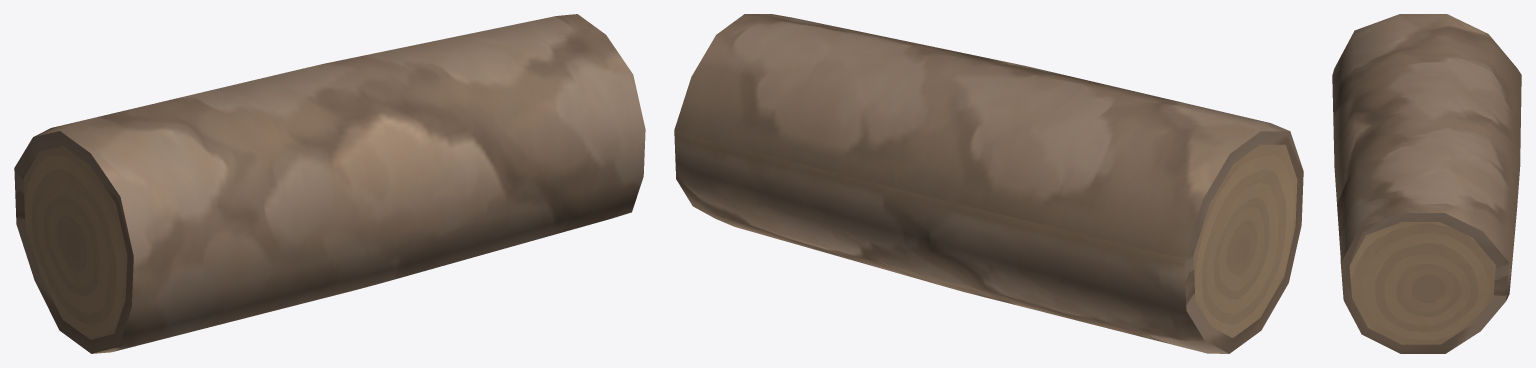
The model's file is WoodenLogDrop.fbx.
3 renders of one model, left to right at view 1: azimuth 30°, elevation 25°; view 2: azimuth 150°, elevation 25°; view 3: azimuth 270°, elevation 25°, orthographic. The views are drawn at different scales.
Visible parts, largest first — view 1: WoodenLogDrop; view 2: WoodenLogDrop; view 3: WoodenLogDrop.
Boxes of the visible parts, x1,y1,x2,y2 form: WoodenLogDrop: [14, 14, 645, 353]; WoodenLogDrop: [674, 14, 1303, 353]; WoodenLogDrop: [1332, 14, 1521, 353].
Size of the model in its own units: 0.76 by 0.2914 by 0.3153.
